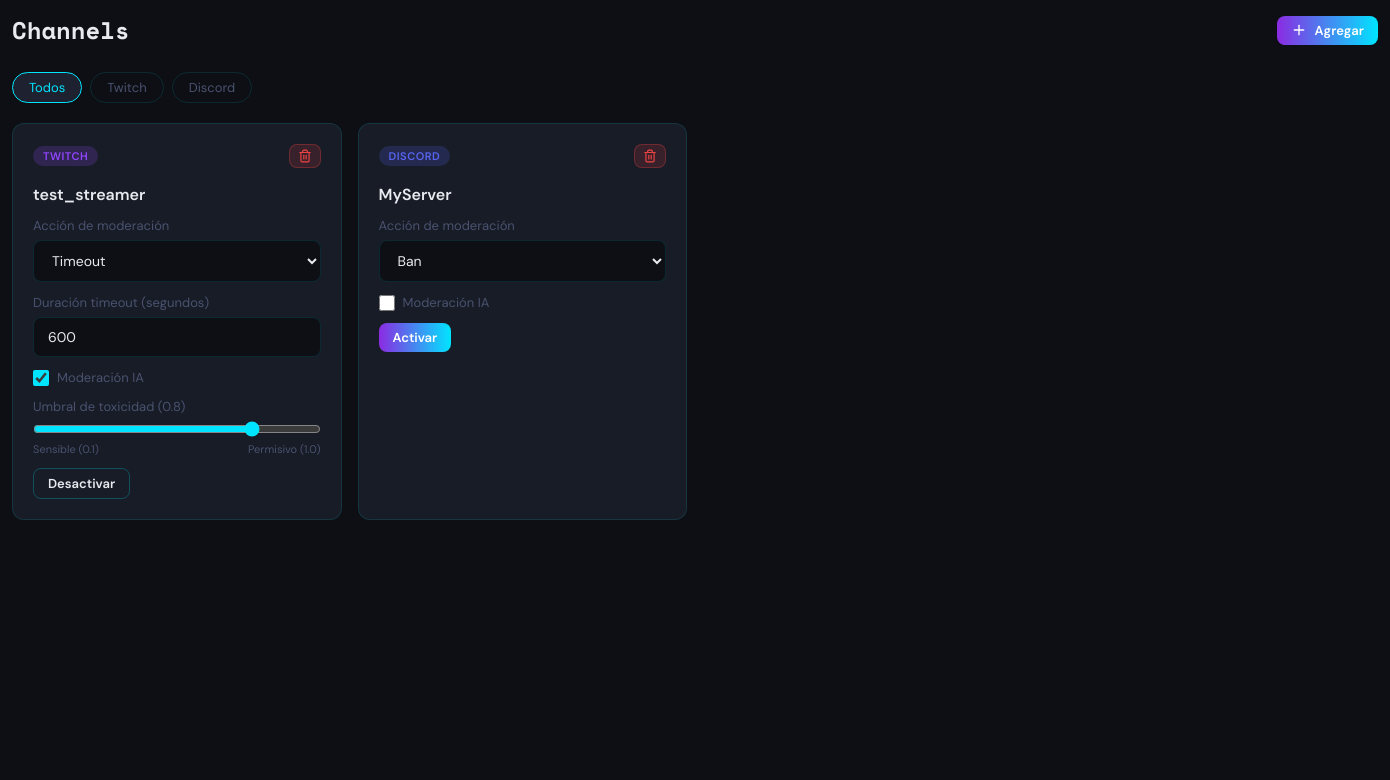
Scenario: Channels › add channel form toggles
The image size is (1390, 780).
Click the button "Agregar" at (1327, 30), box [1276, 16, 1378, 44]
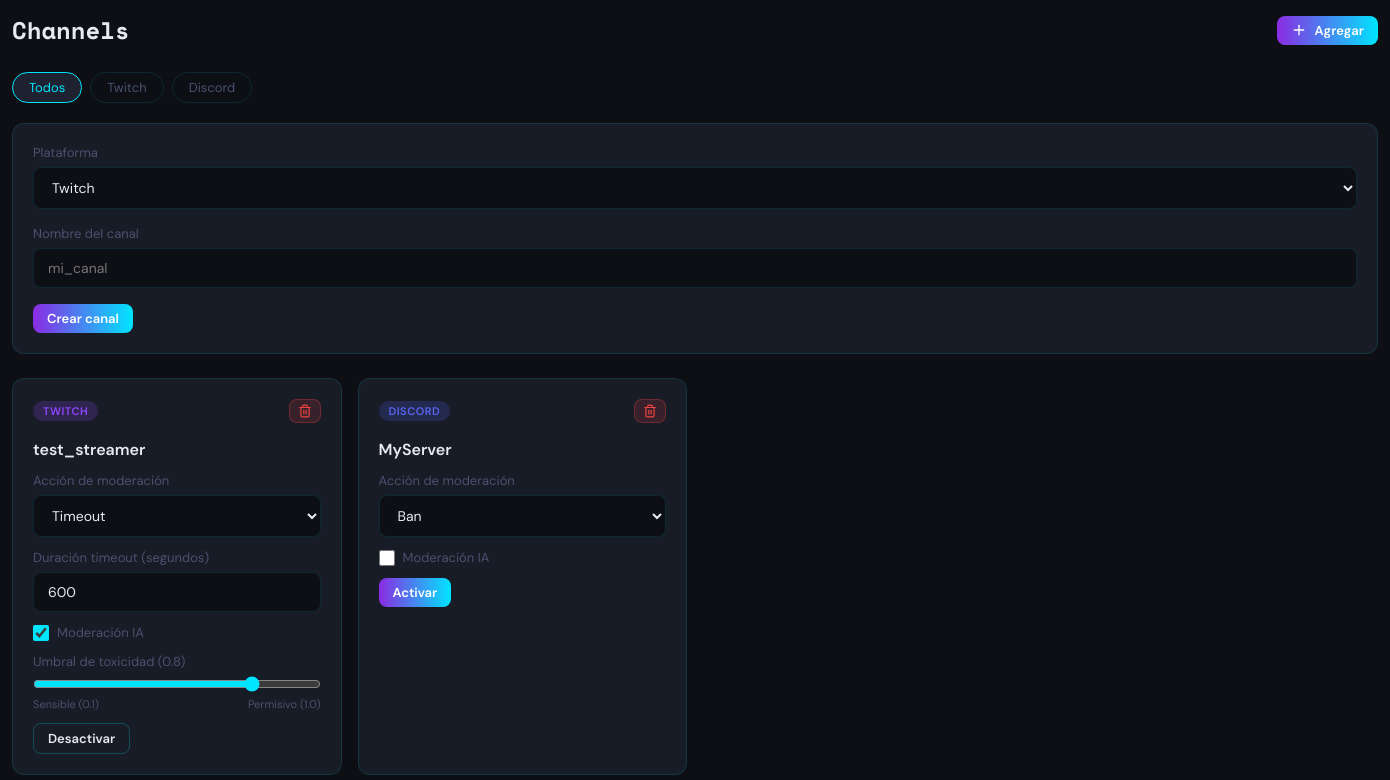
Expected: the text "Plataforma" is shown, [33, 144, 98, 161]
Expected: the button "Crear canal" is shown, [33, 304, 133, 333]
